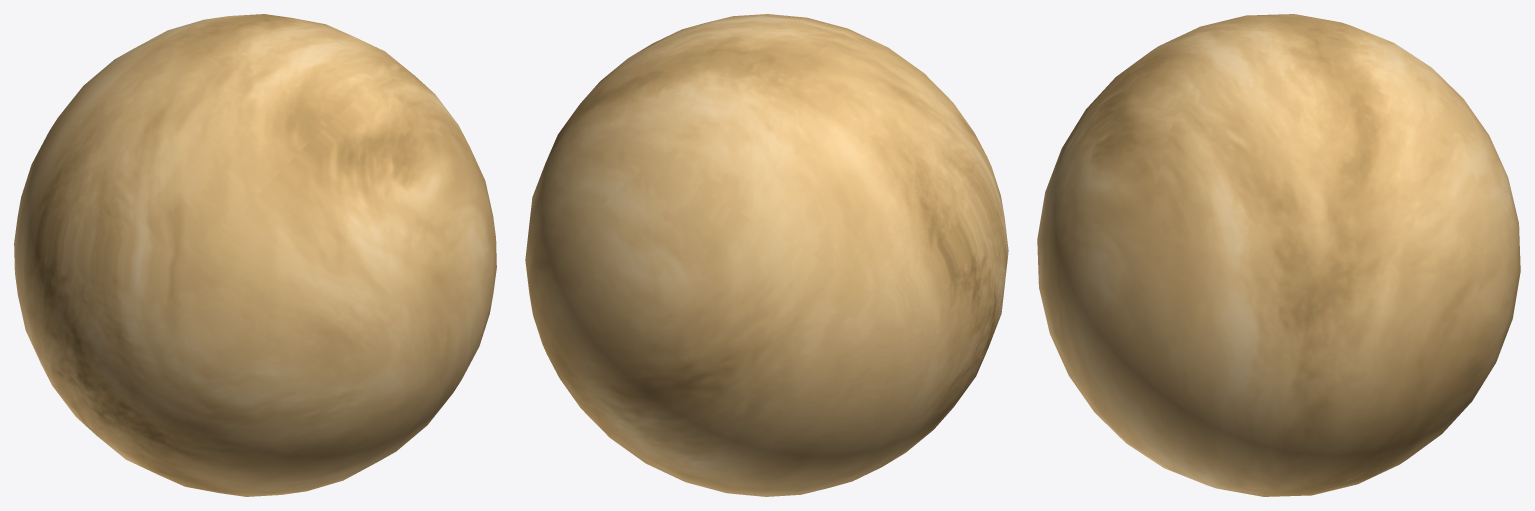
The model's file is venus.obj.
3 views of the same model, side by side, from view 1: azimuth 30°, elevation 25°; view 2: azimuth 150°, elevation 25°; view 3: azimuth 270°, elevation 25° (orthographic).
Visible parts, largest first — view 1: Venus; view 2: Venus; view 3: Venus.
Boxes of the visible parts, x1=… form: Venus: x1=14, y1=14, x2=496, y2=496; Venus: x1=525, y1=14, x2=1008, y2=496; Venus: x1=1037, y1=14, x2=1520, y2=496.
Bounding box in the file's own units: 1.21 × 1.21 × 1.21.
